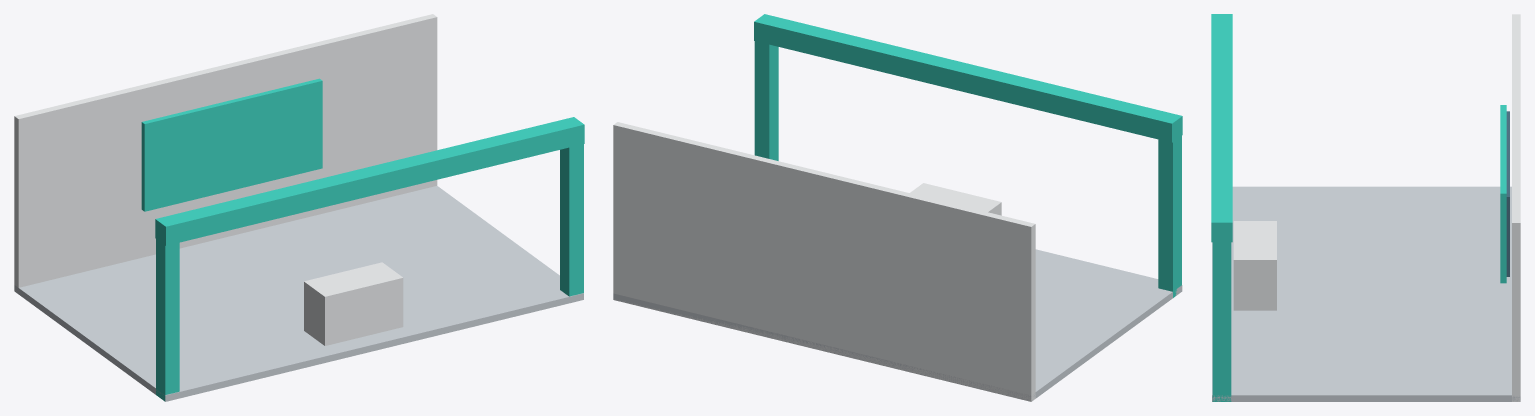
3 renders of one model, left to right at view 1: azimuth 30°, elevation 25°; view 2: azimuth 150°, elevation 25°; view 3: azimuth 270°, elevation 25°, orthographic. The views are drawn at different scales.
Visible parts, largest first — view 1: Exhibition Booth Concept; view 2: Exhibition Booth Concept; view 3: Exhibition Booth Concept.
Boxes of the visible parts, left/top/right/bottom form: Exhibition Booth Concept: left=14, top=14, right=584, bottom=401; Exhibition Booth Concept: left=613, top=14, right=1182, bottom=401; Exhibition Booth Concept: left=1211, top=14, right=1520, bottom=401.
Size of the model in its own units: 8 by 3.2 by 5.02.
